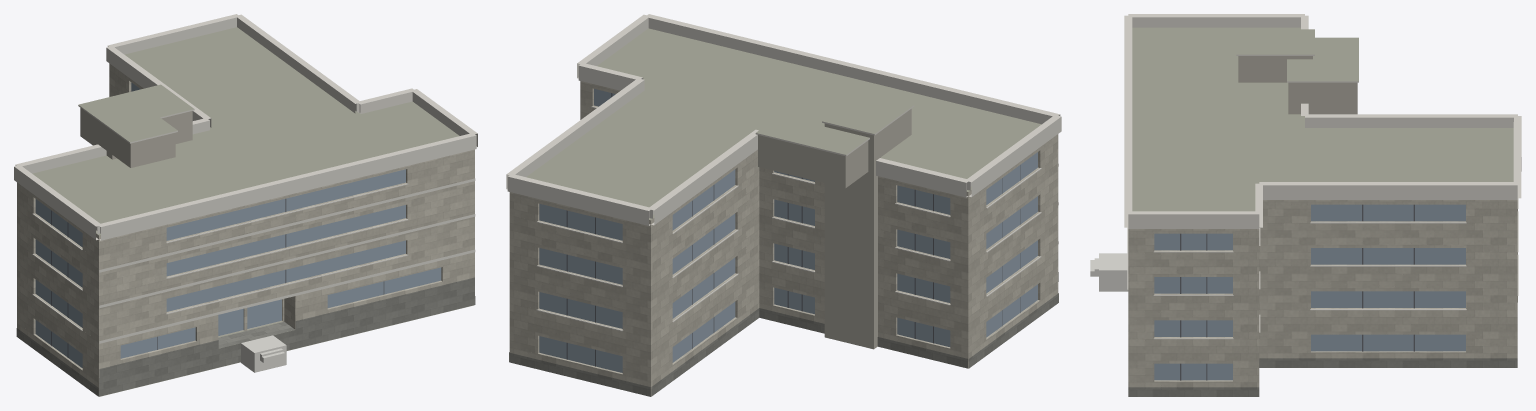
3 views of the same model, side by side, from view 1: azimuth 30°, elevation 25°; view 2: azimuth 150°, elevation 25°; view 3: azimuth 270°, elevation 25° (orthographic). The views are drawn at different scales.
Parts seen in each view (by area): view 1: b50b__wall, b50b__roof, b50b__trim, b50b__glass, b50b__base, b50b__wall2, b50b__entranceStair; view 2: b50b__wall, b50b__roof, b50b__trim, b50b__glass, b50b__wall2, b50b__base, b50b__frame; view 3: b50b__wall, b50b__roof, b50b__trim, b50b__glass, b50b__base, b50b__wall2, b50b__entranceStair, b50b__frame.
Part boxes in pixels (x1,y1,x2,y2): b50b__wall: (17, 63, 474, 396); b50b__roof: (32, 27, 473, 396); b50b__trim: (14, 14, 477, 343); b50b__glass: (35, 82, 441, 367); b50b__base: (16, 277, 475, 396); b50b__wall2: (80, 108, 192, 167); b50b__entranceStair: (241, 335, 286, 372); b50b__wall: (509, 81, 1058, 396); b50b__roof: (526, 28, 1041, 220); b50b__trim: (506, 14, 1061, 331); b50b__glass: (539, 89, 1037, 372); b50b__wall2: (758, 109, 911, 349); b50b__base: (509, 272, 1058, 396); b50b__frame: (566, 93, 1020, 366); b50b__wall: (1128, 200, 1517, 387); b50b__roof: (1132, 27, 1513, 211); b50b__trim: (1124, 14, 1521, 339); b50b__glass: (1154, 204, 1465, 380); b50b__base: (1128, 358, 1517, 396); b50b__wall2: (1238, 56, 1357, 114); b50b__entranceStair: (1090, 253, 1128, 291); b50b__frame: (1180, 204, 1414, 380).
Bounding box in the file's own units: 35.7 × 17.74 × 32.45.
9 materials, 2 textured.
